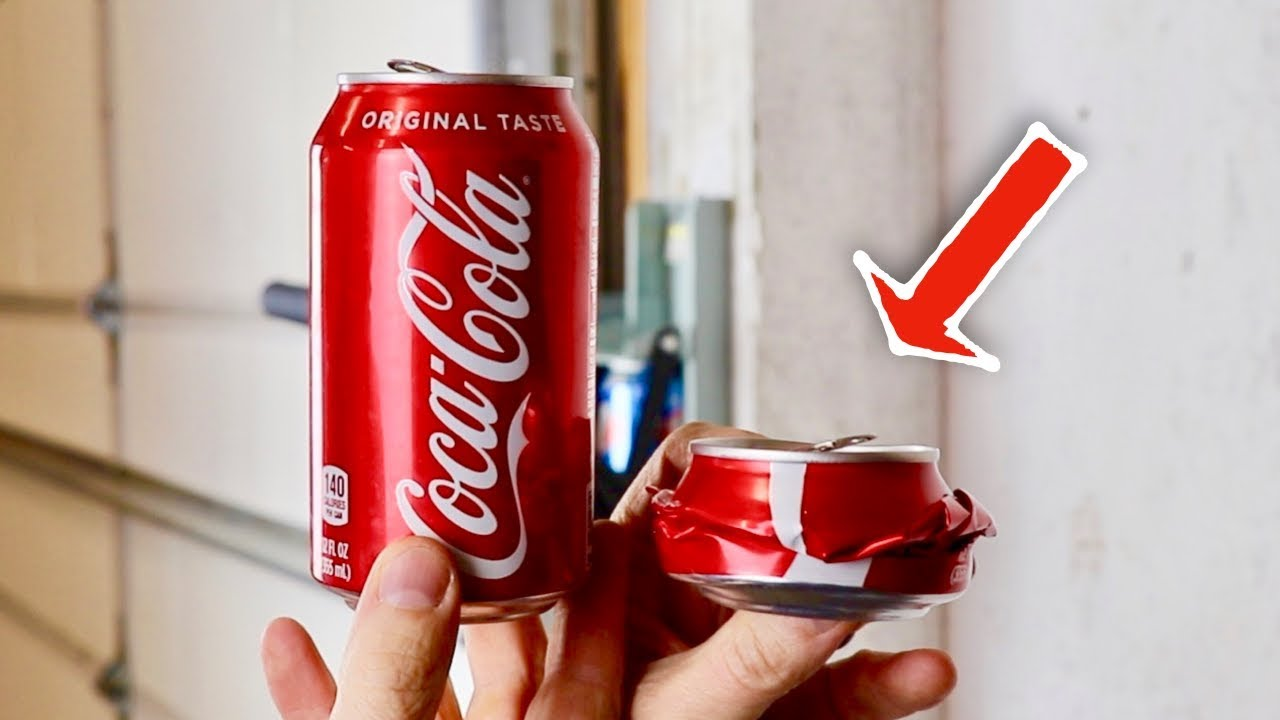can: (306, 55, 601, 627), (649, 431, 1000, 621)
